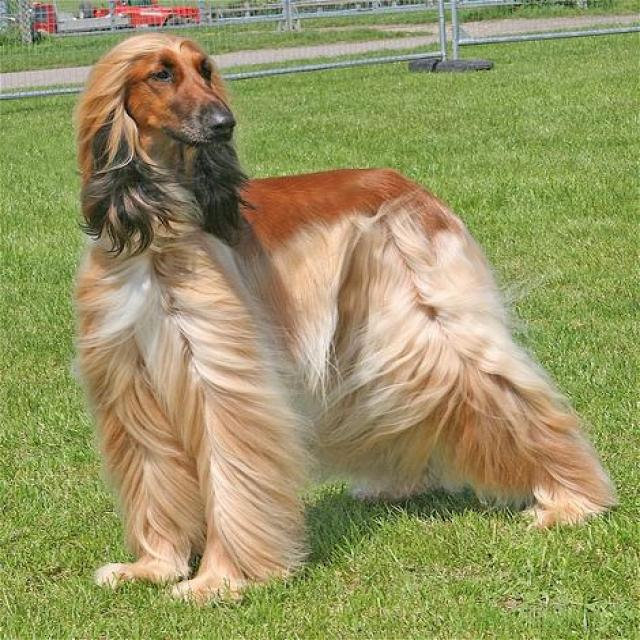afghan_hound: (70, 28, 620, 608)
